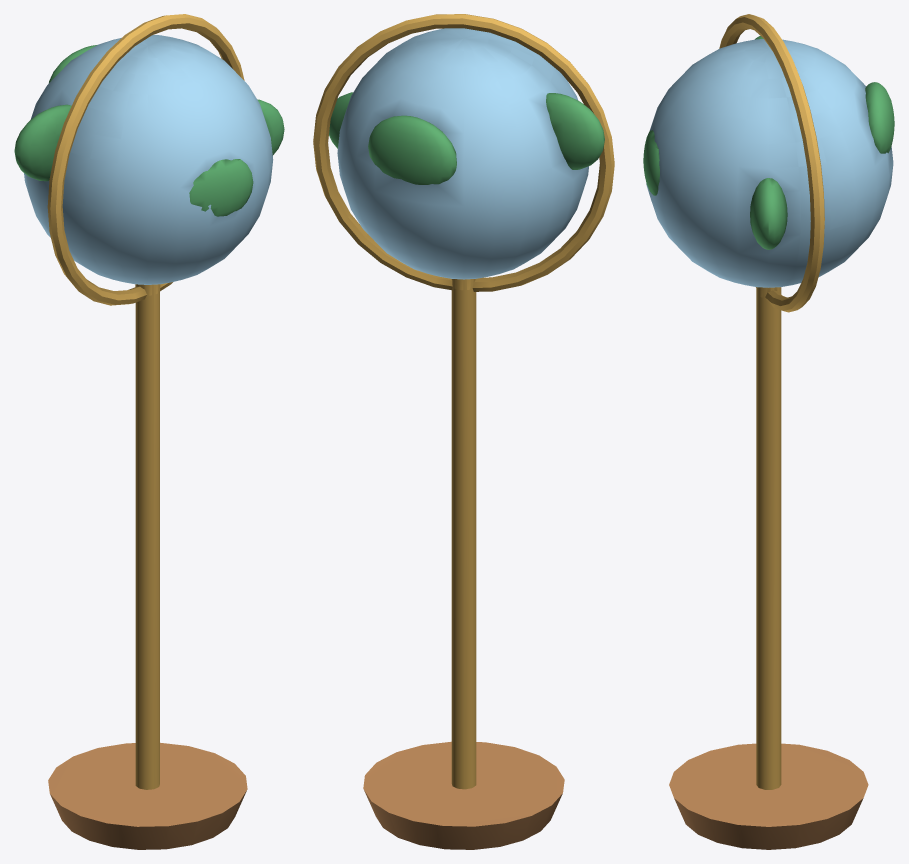
File: gift-ahmed.glb
3 renders of one model, left to right at view 1: azimuth 30°, elevation 25°; view 2: azimuth 150°, elevation 25°; view 3: azimuth 270°, elevation 25°, orthographic.
Visible parts, largest first — view 1: gift-ahmed; view 2: gift-ahmed; view 3: gift-ahmed.
Boxes of the visible parts, x1,y1,x2,y2 form: gift-ahmed: (14, 14, 284, 849); gift-ahmed: (313, 14, 614, 849); gift-ahmed: (643, 14, 894, 849).
Size of the model in its own units: 0.4997 by 1.39 by 0.4032.
